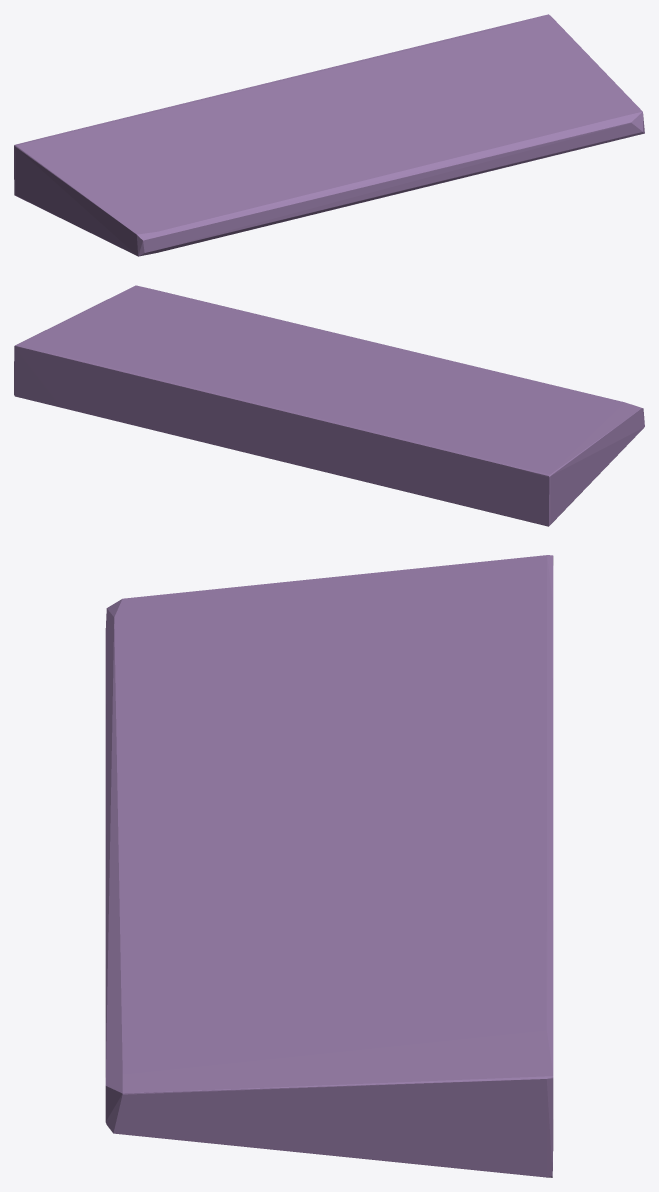
The model's file is rail_guard_a09.glb.
3 renders of one model, top to bottom at view 1: azimuth 30°, elevation 25°; view 2: azimuth 150°, elevation 25°; view 3: azimuth 270°, elevation 25°, orthographic. The views are drawn at different scales.
Visible parts, largest first — view 1: geometry_0; view 2: geometry_0; view 3: geometry_0.
Part boxes in pixels (<box>): geometry_0: <box>14,14,644,256</box>; geometry_0: <box>14,285,644,526</box>; geometry_0: <box>105,555,553,1177</box>.
Bounding box in the file's own units: 0.48 × 0.0436 × 0.1738.
